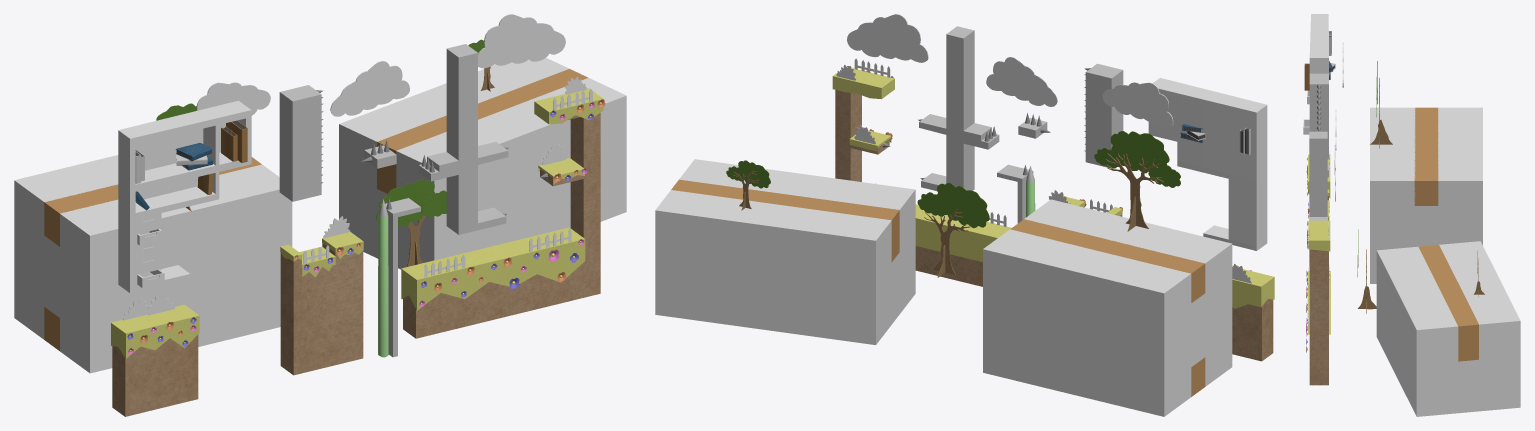
File: Pantalla_3_Def.fbx
3 views of the same model, side by side, from view 1: azimuth 30°, elevation 25°; view 2: azimuth 150°, elevation 25°; view 3: azimuth 270°, elevation 25° (orthographic). The views are drawn at different scales.
Visible parts, largest first — view 1: Caja_1, Cube, Pantalla_3.003, Cube.001, Pantalla_3.006, Pantalla_3.009, Pantalla_3.002, Pantalla_3.004, Nube.002, Nube, Pantalla_3.001, Florecilla.056 (+4 smaller); view 2: Caja_1, Cube, Cube.001, Pantalla_3.002, Pantalla_3.006, Pantalla_3.009, Pantalla_3.004, Nube.002, Arbol1.001, Pantalla_3.003, Nube.001, Nube (+5 smaller); view 3: Cube, Caja_1, Pantalla_3.009, Pantalla_3.002, Cube.001, Pantalla_3.006, Pantalla_3.004, Arbol1, Arbol2.
Part boxes in pixels (box(x1,y1,x2,y2)): Caja_1: box(14, 155, 292, 373); Cube: box(339, 58, 626, 269); Pantalla_3.003: box(112, 243, 363, 416); Cube.001: box(118, 100, 251, 293); Pantalla_3.006: box(111, 88, 603, 358); Pantalla_3.009: box(403, 113, 600, 338); Pantalla_3.002: box(418, 44, 508, 234); Pantalla_3.004: box(279, 85, 321, 201); Nube.002: box(478, 14, 565, 68); Nube: box(330, 61, 409, 116); Pantalla_3.001: box(380, 198, 420, 357); Florecilla.056: box(127, 99, 605, 354); Caja_1: box(983, 199, 1232, 416); Cube: box(655, 159, 915, 344); Cube.001: box(1148, 78, 1267, 250); Pantalla_3.002: box(919, 26, 999, 190); Pantalla_3.006: box(832, 67, 1274, 308); Pantalla_3.009: box(835, 90, 982, 286); Pantalla_3.004: box(1085, 63, 1123, 168); Nube.002: box(847, 14, 928, 62); Arbol1.001: box(1094, 131, 1180, 187); Pantalla_3.003: box(1083, 206, 1273, 361); Nube.001: box(1102, 82, 1173, 127); Nube: box(986, 57, 1057, 106); Cube: box(1376, 241, 1520, 416); Caja_1: box(1370, 107, 1482, 283); Pantalla_3.009: box(1309, 249, 1328, 385); Pantalla_3.002: box(1309, 131, 1327, 270); Cube.001: box(1303, 14, 1328, 134); Pantalla_3.006: box(1307, 154, 1330, 334); Pantalla_3.004: box(1309, 73, 1328, 159); Arbol1: box(1370, 77, 1392, 148); Arbol2: box(1358, 249, 1376, 313).
Size of the model in its own units: 10465 by 5233 by 4602.
